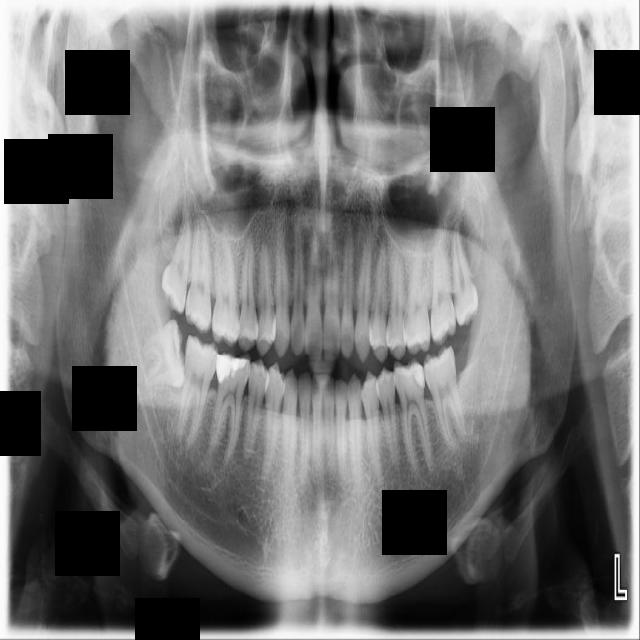3M ESPE Implant: (157, 206, 196, 315)
52: (391, 356, 428, 403), (213, 351, 252, 394)
73: (587, 558, 601, 572)
BioHorizons Implant: (430, 221, 456, 347)
BioLife Implant: (448, 218, 480, 328)
Blue Sky Bio Implant: (420, 342, 470, 455)
Caries: (181, 215, 213, 335)
Implant: (175, 335, 221, 447)
Keystone Dental Implant: (140, 318, 187, 390)
